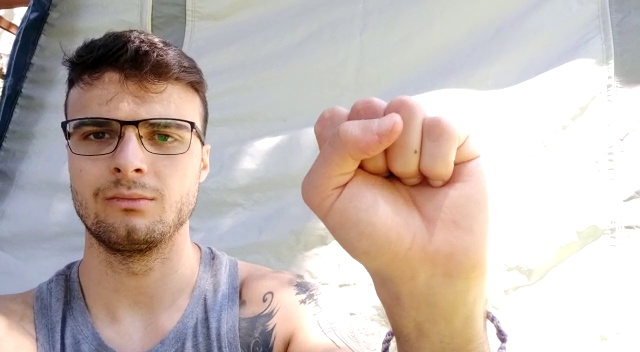Fist: (306, 93, 513, 307)
